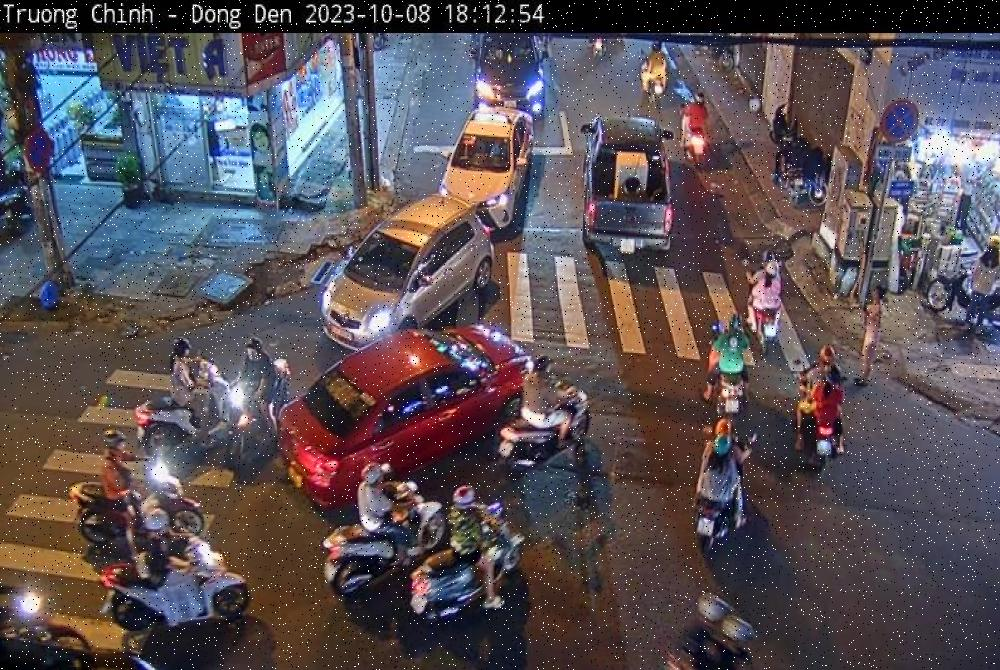car: (278, 322, 534, 511), (321, 198, 495, 358), (581, 114, 672, 258), (472, 28, 551, 119)
